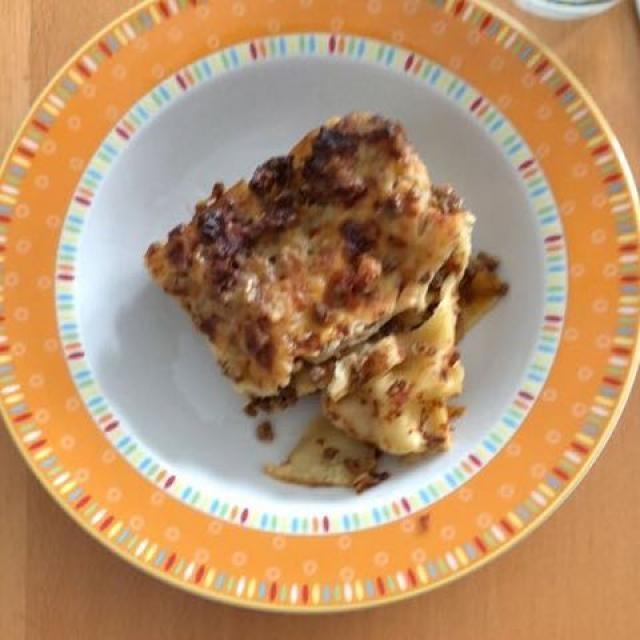lasagne: (129, 109, 503, 510)
